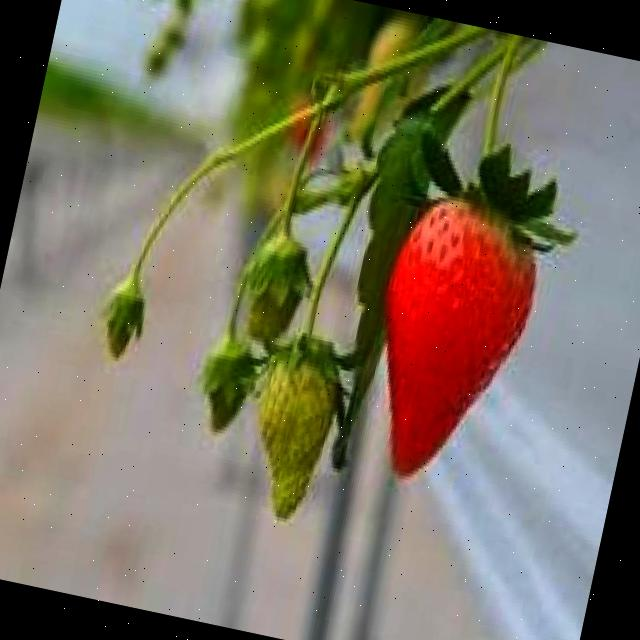strawberry: (347, 180, 551, 496), (235, 333, 348, 524), (237, 236, 313, 352), (195, 341, 258, 438), (100, 280, 146, 364)
